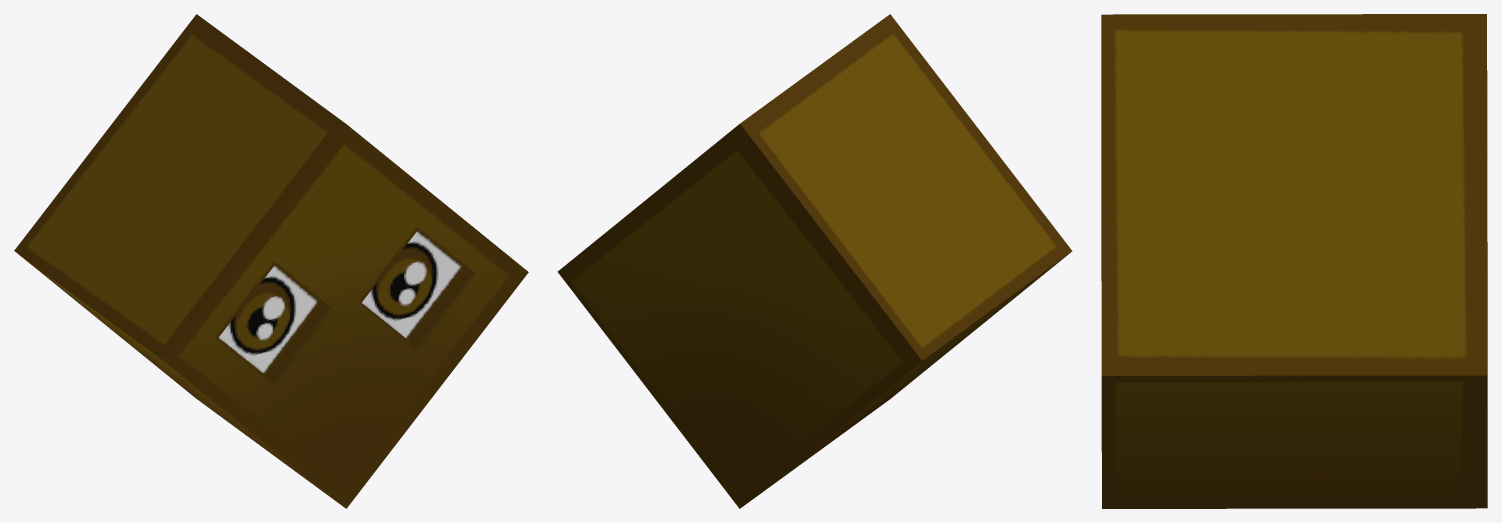
Rendered from Cabeca.obj.
3 views of the same model, side by side, from view 1: azimuth 30°, elevation 25°; view 2: azimuth 150°, elevation 25°; view 3: azimuth 270°, elevation 25° (orthographic). The views are drawn at different scales.
Visible parts, largest first — view 1: Corpo.001_Cube.001; view 2: Corpo.001_Cube.001; view 3: Corpo.001_Cube.001.
Boxes of the visible parts, <box> form: Corpo.001_Cube.001: <box>14,14,528,508</box>; Corpo.001_Cube.001: <box>557,14,1072,508</box>; Corpo.001_Cube.001: <box>1101,14,1487,508</box>.
Size of the model in its own units: 1.31 by 1.32 by 0.936.
